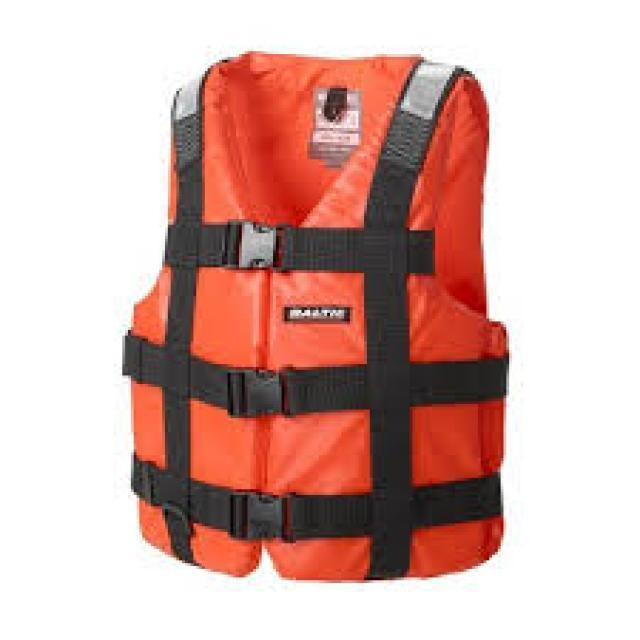Safety Vest: (120, 21, 534, 593)
